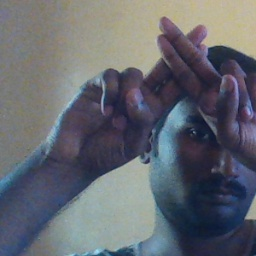F: (122, 12, 244, 135)
